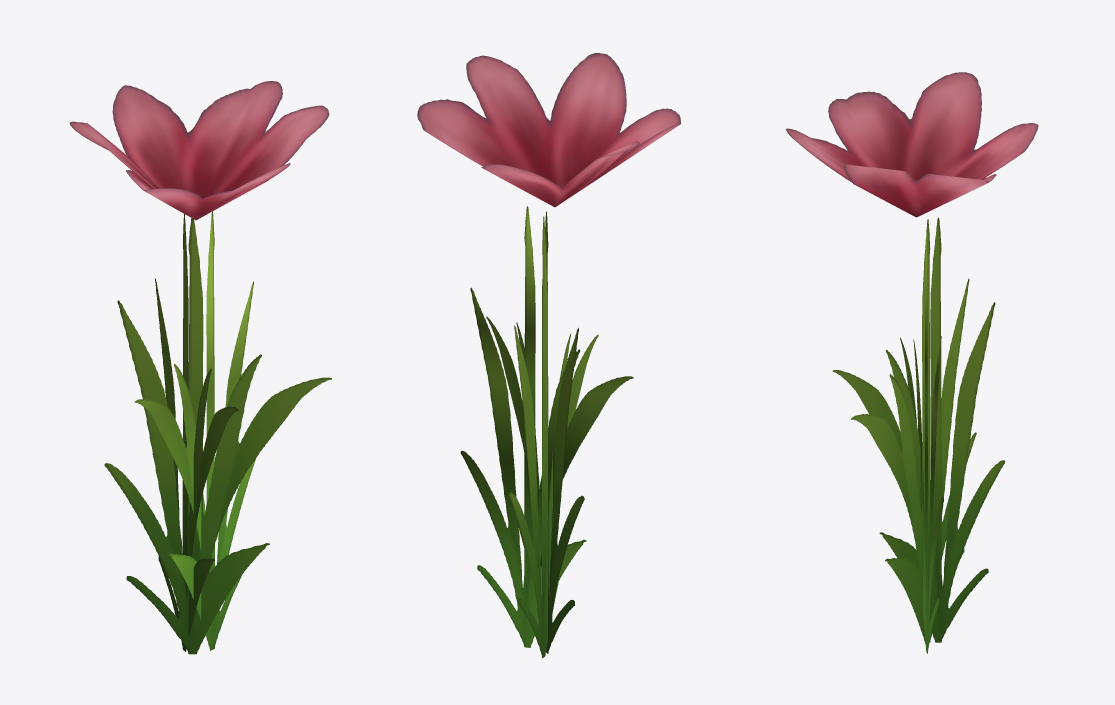
Rendered from Jungle_flower_01.fbx.
3 renders of one model, left to right at view 1: azimuth 30°, elevation 25°; view 2: azimuth 150°, elevation 25°; view 3: azimuth 270°, elevation 25°, orthographic. The views are drawn at different scales.
Parts seen in each view (by area): view 1: Jungle_flower_01; view 2: Jungle_flower_01; view 3: Jungle_flower_01.
Boxes of the visible parts, x1,y1,x2,y2 form: Jungle_flower_01: [69, 81, 331, 654]; Jungle_flower_01: [417, 53, 681, 658]; Jungle_flower_01: [785, 72, 1038, 653].
Bounding box in the file's own units: 59.52 × 98.1 × 59.52.
